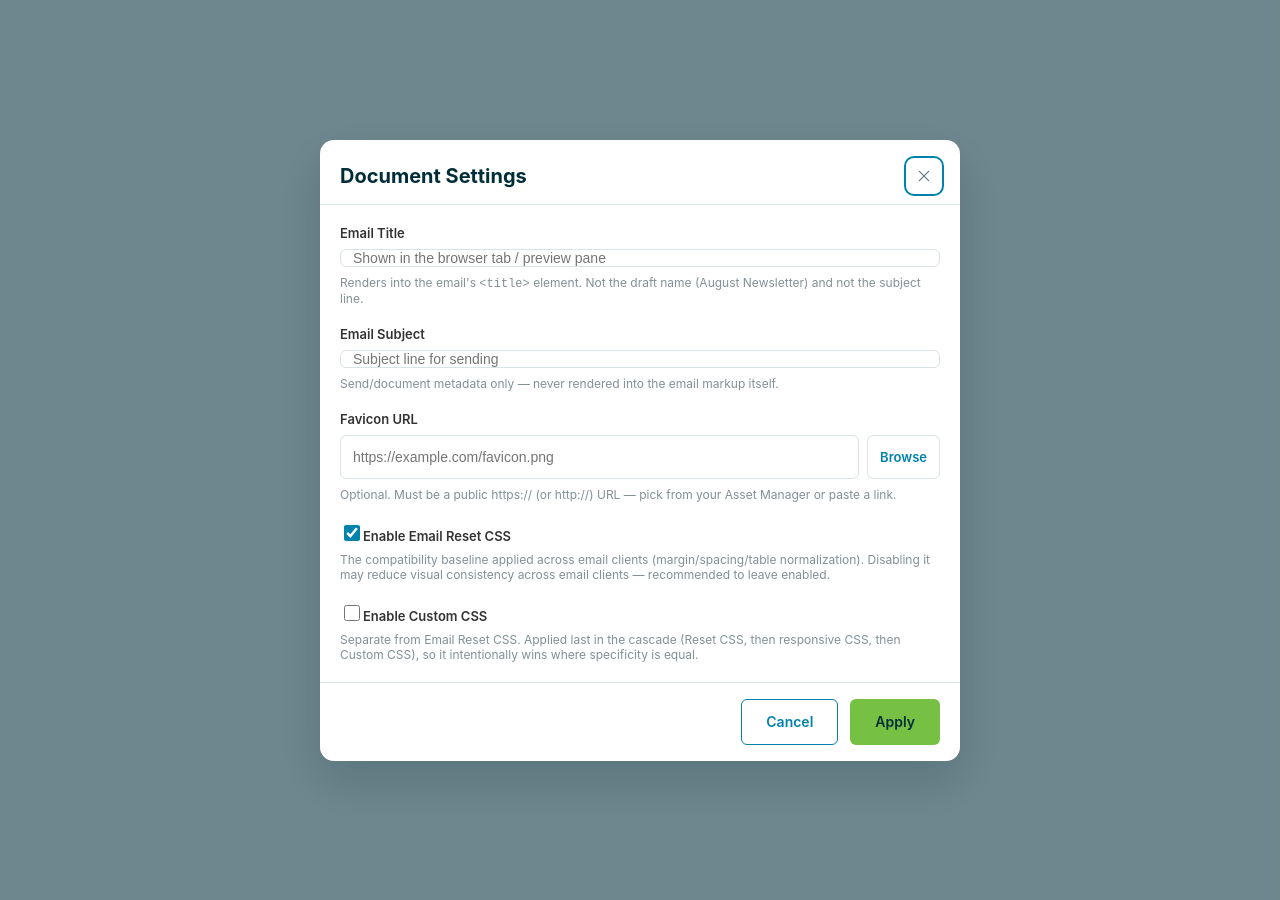
Test case: DocumentSettingsDialog › Browse opens the Asset Manager and selecting an asset fills the favicon field
Click the button "Browse" at x=904, y=456, box x1=867 y1=434 x2=940 y2=478
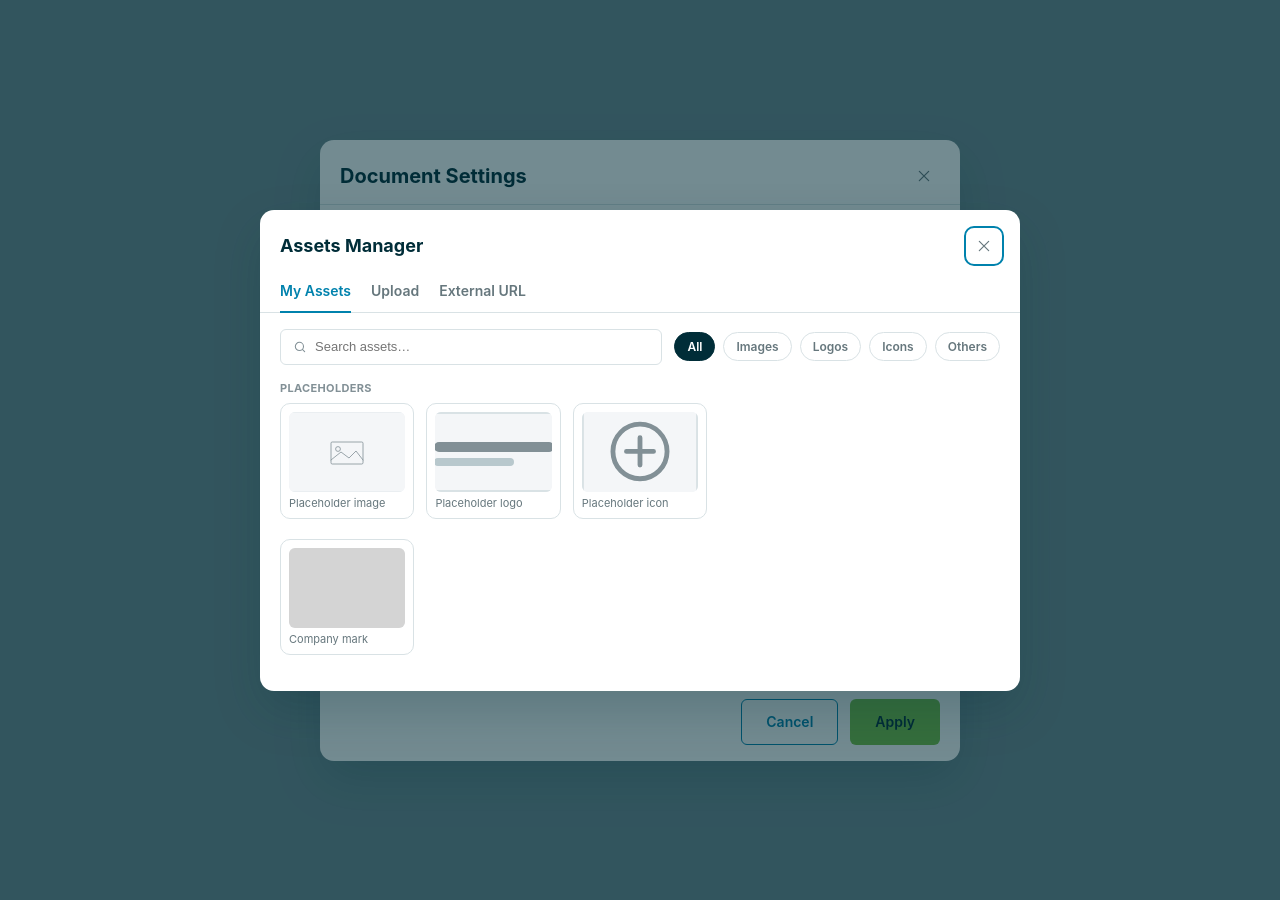
Click the button "Company mark" at x=347, y=596, box x1=280 y1=538 x2=414 y2=654
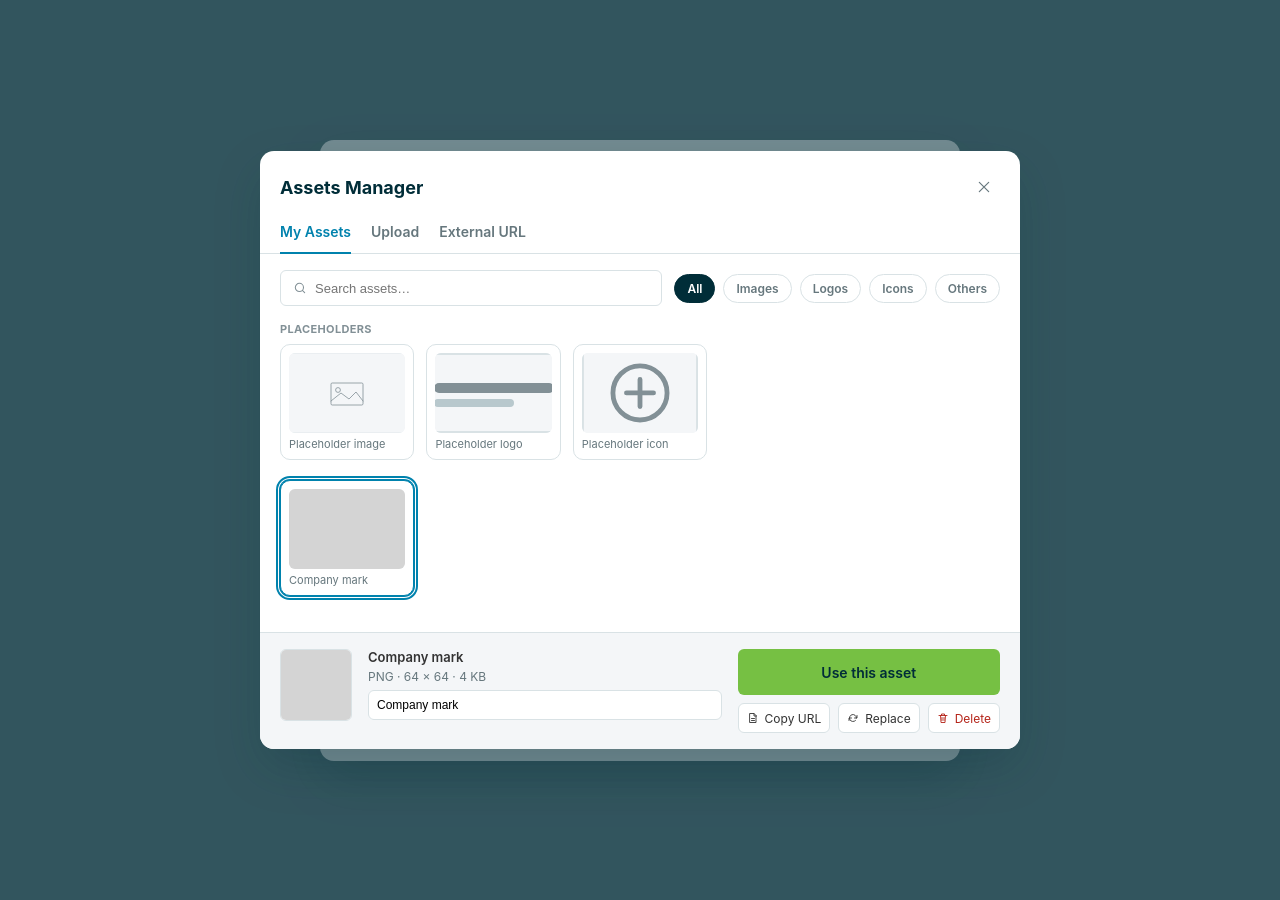
Click the button "Use this asset" at x=869, y=672, box x1=738 y1=649 x2=1000 y2=695
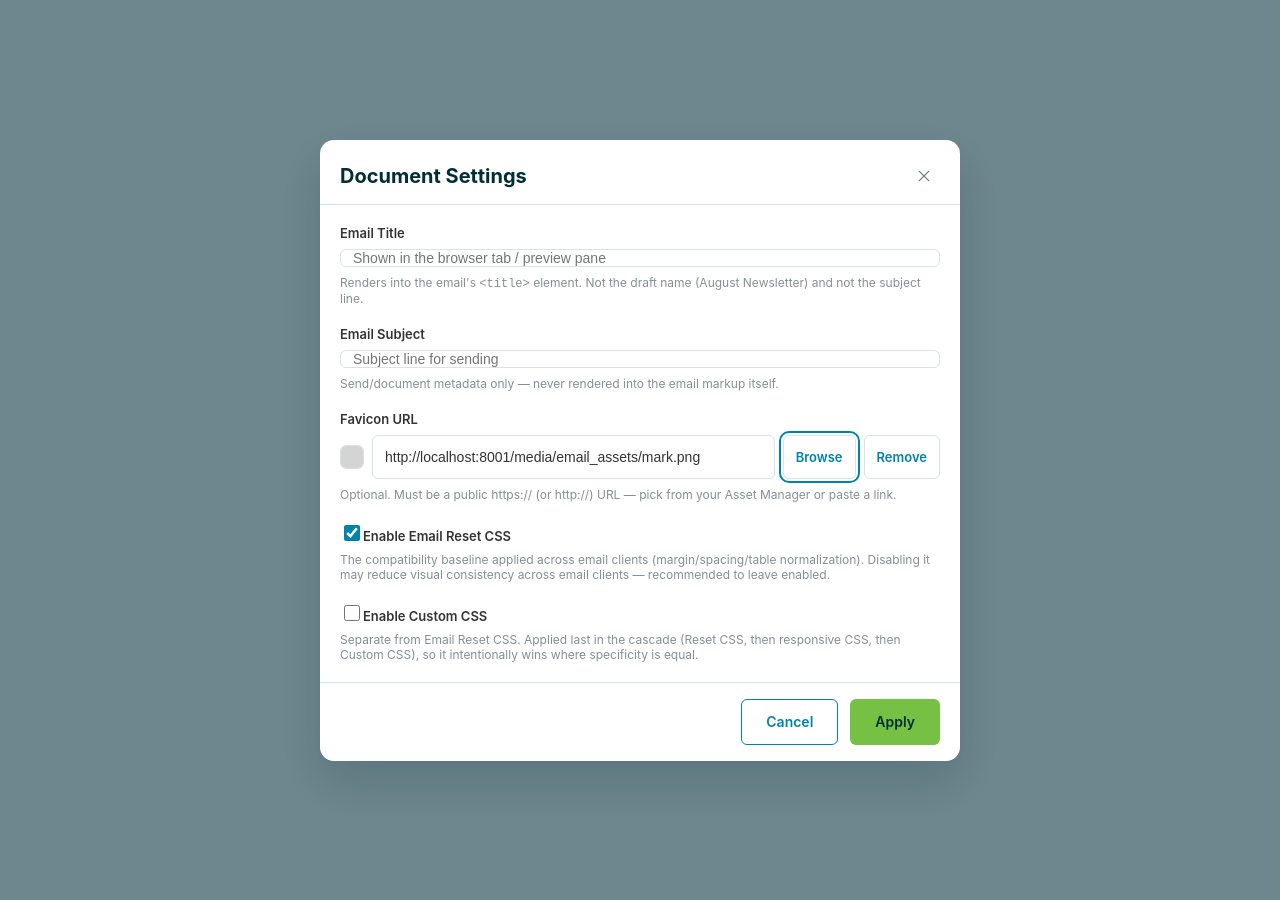
Now the field labelled "Favicon URL" holds "http://localhost:8001/media/email_assets/mark.png", box x1=372 y1=434 x2=775 y2=478
